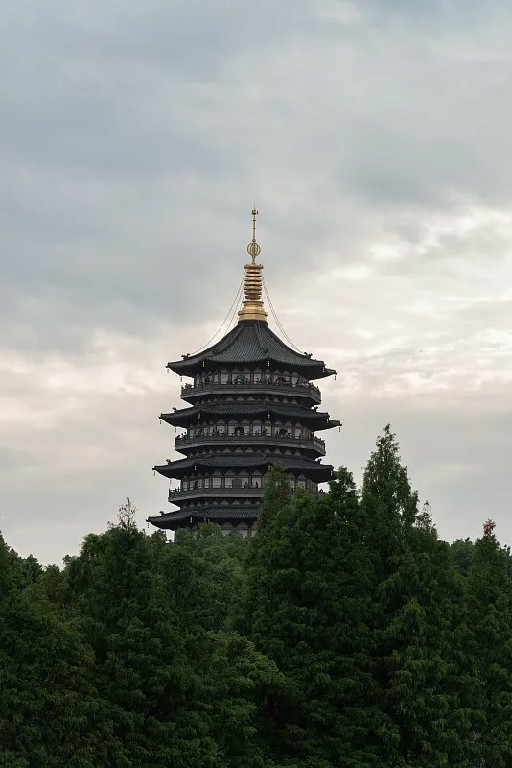Leifeng: (143, 202, 352, 542)
